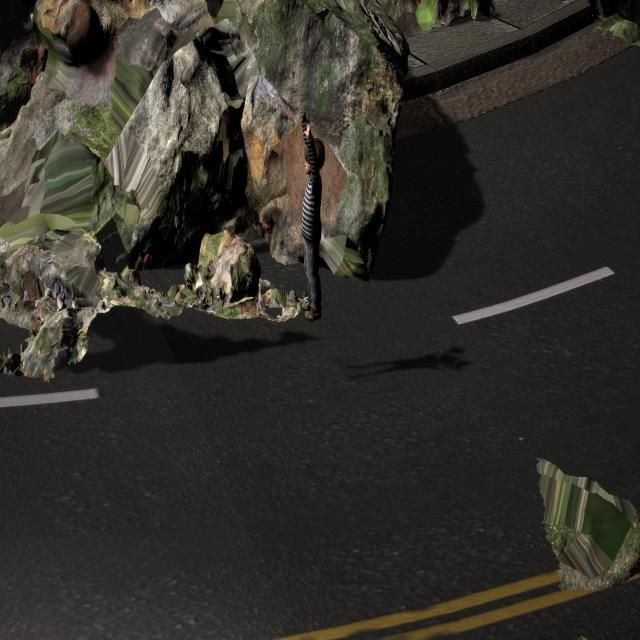Human: (293, 110, 328, 332)
